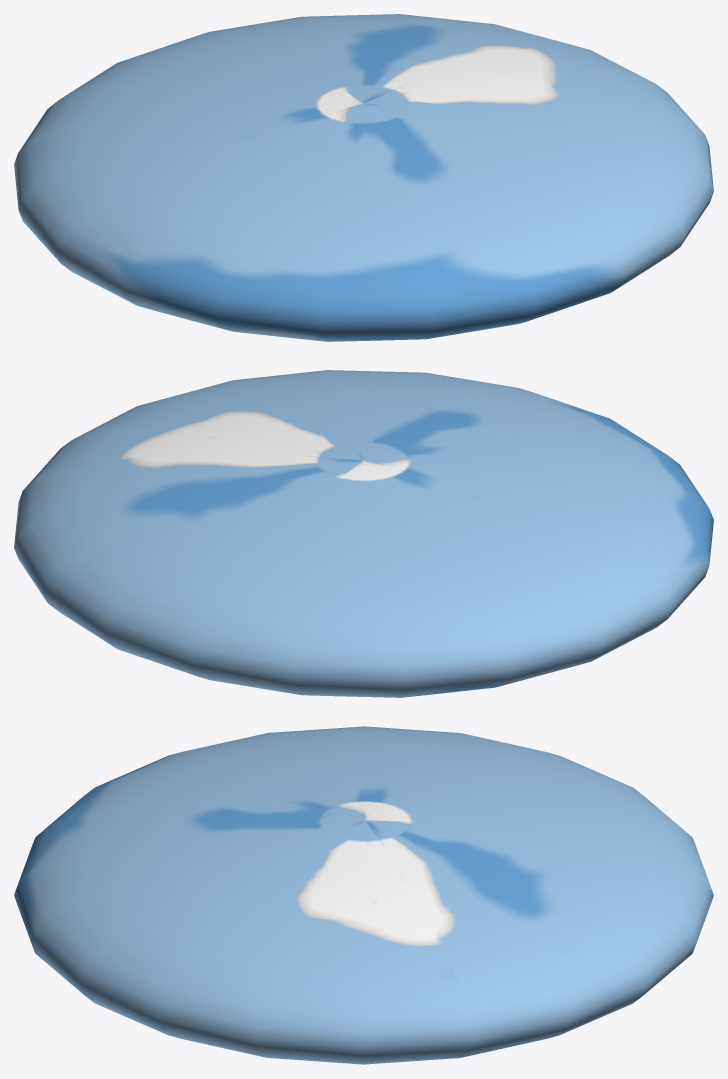
File: DropExample.fbx
3 views of the same model, one above another, from view 1: azimuth 30°, elevation 25°; view 2: azimuth 150°, elevation 25°; view 3: azimuth 270°, elevation 25° (orthographic).
Visible parts, largest first — view 1: Drop; view 2: Drop; view 3: Drop.
Part boxes in pixels (x1,y1,x2,y2): Drop: (14, 14, 713, 341); Drop: (14, 370, 713, 697); Drop: (14, 726, 713, 1064).
Bounding box in the file's own units: 154 × 35.41 × 150.
Materials: 1 (1 with a texture image).
